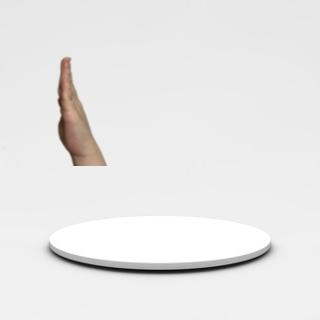RIGHT: (52, 55, 100, 155)
